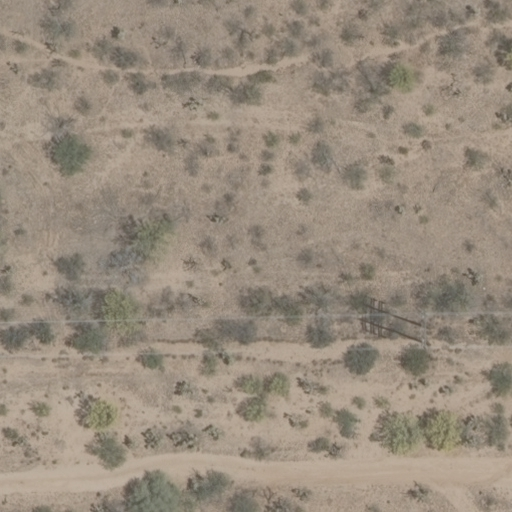DT: (413, 308, 433, 357)
